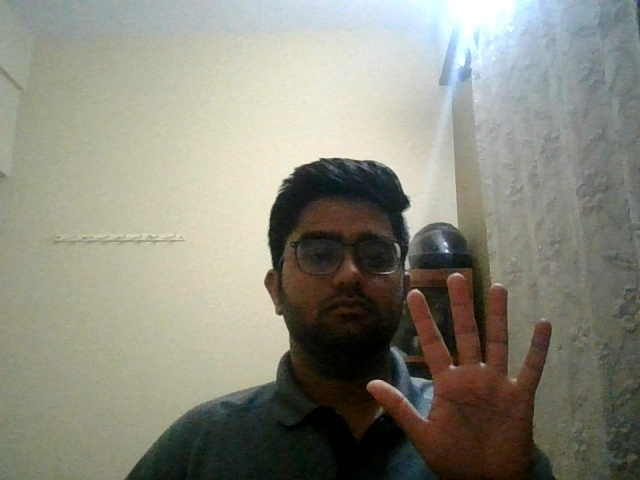Hello: (348, 256, 574, 480)
